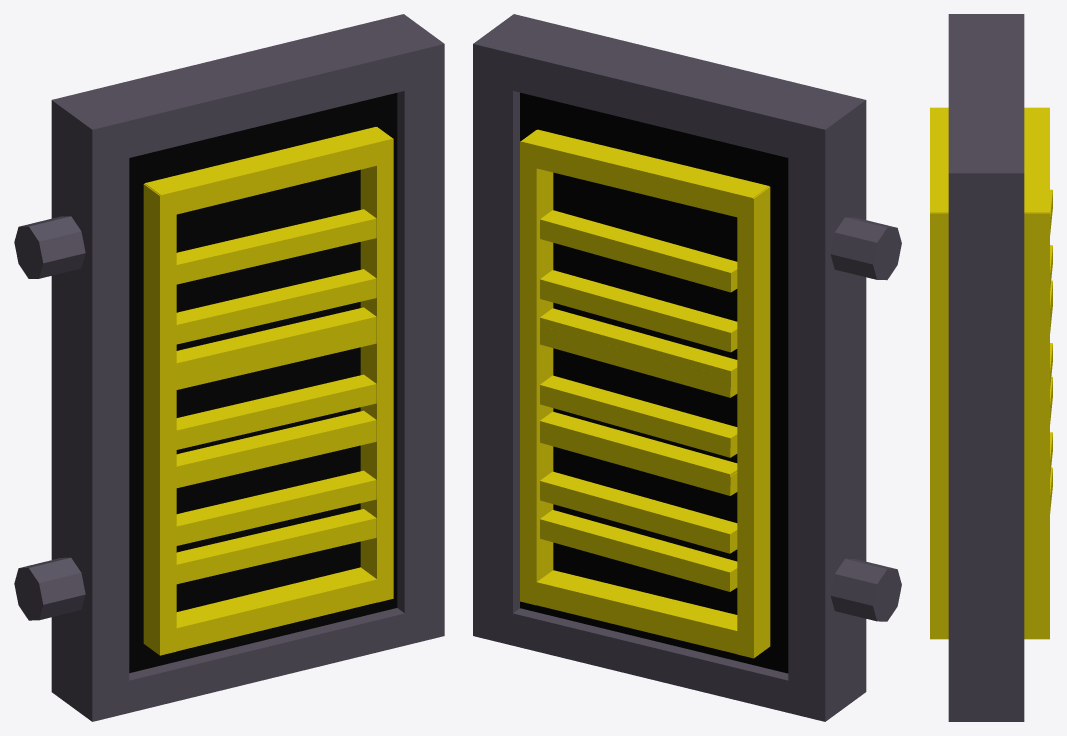
File: Neon_Horizontal_Lines_rectangle.fbx
3 views of the same model, side by side, from view 1: azimuth 30°, elevation 25°; view 2: azimuth 150°, elevation 25°; view 3: azimuth 270°, elevation 25° (orthographic). The views are drawn at different scales.
Parts seen in each view (by area): view 1: NeonSign_Rectangle5, Neon_Horizontal_Lines_rectangle; view 2: NeonSign_Rectangle5, Neon_Horizontal_Lines_rectangle; view 3: NeonSign_Rectangle5, Neon_Horizontal_Lines_rectangle.
Boxes of the visible parts, bbox=[...] form: NeonSign_Rectangle5: bbox=[14, 14, 444, 721]; Neon_Horizontal_Lines_rectangle: bbox=[143, 127, 393, 655]; NeonSign_Rectangle5: bbox=[473, 14, 901, 721]; Neon_Horizontal_Lines_rectangle: bbox=[520, 129, 770, 658]; NeonSign_Rectangle5: bbox=[948, 14, 1024, 721]; Neon_Horizontal_Lines_rectangle: bbox=[930, 107, 1052, 639].
Size of the model in its own units: 1.12 by 1.61 by 0.3262.
